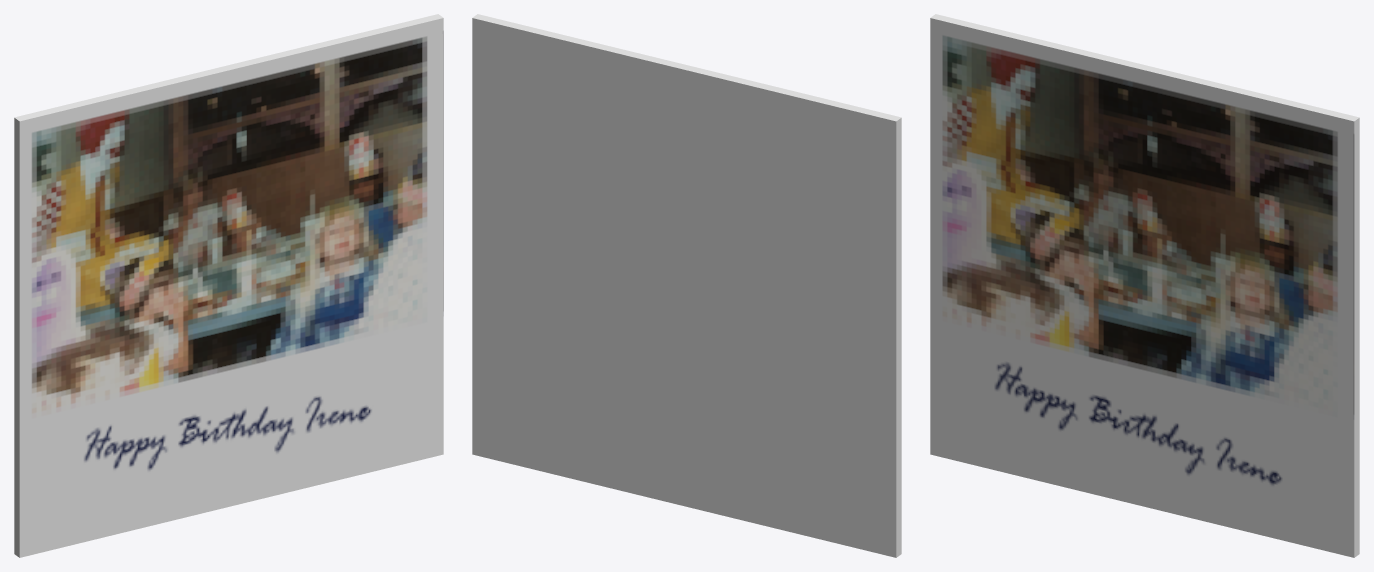
The model's file is birthdayPhoto.fbx.
The picture shows the model from 3 angles, left to right: view 1: azimuth 30°, elevation 25°; view 2: azimuth 150°, elevation 25°; view 3: azimuth 330°, elevation 25°; orthographic projection.
Visible parts, largest first — view 1: Cube; view 2: Cube; view 3: Cube.
Part boxes in pixels (x1,y1,x2,y2): Cube: [14, 14, 443, 557]; Cube: [472, 14, 901, 557]; Cube: [930, 14, 1359, 557].
Size of the model in its own units: 36.05 by 35.46 by 0.8.
